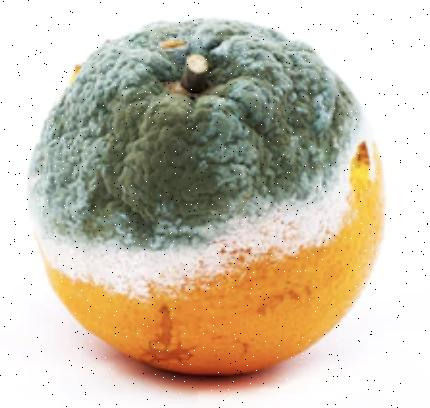Orange Rotten: (23, 12, 388, 387)
